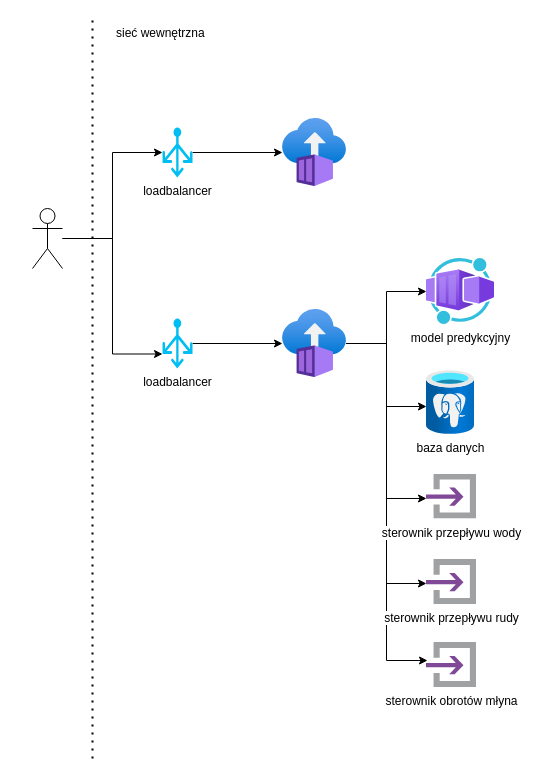
Image size: 538x777. Some labels were removed from this diagram. The shapes that lost their labels are listed below. From the top down, each one's box as (x1, y1, x2, y2) in pixels, then its label:
(282, 118, 346, 186): aplikacja web
(32, 208, 62, 268): Użytkownik
(282, 309, 346, 377): api RESTowe
